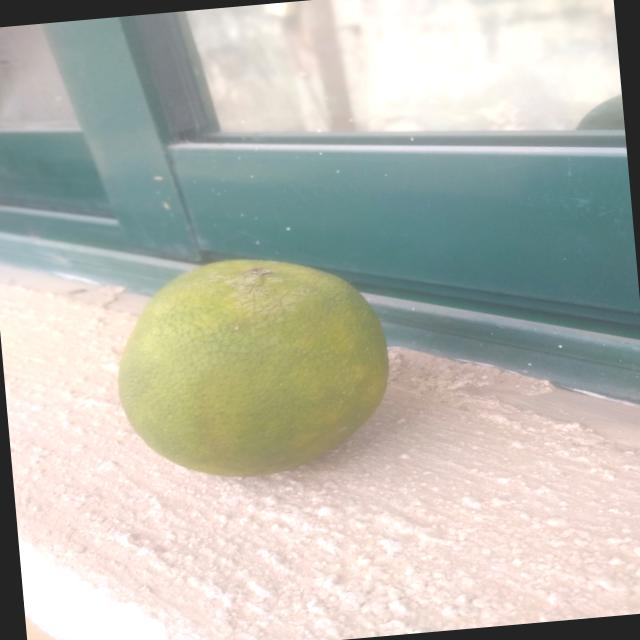Unripe: (95, 226, 422, 503)
